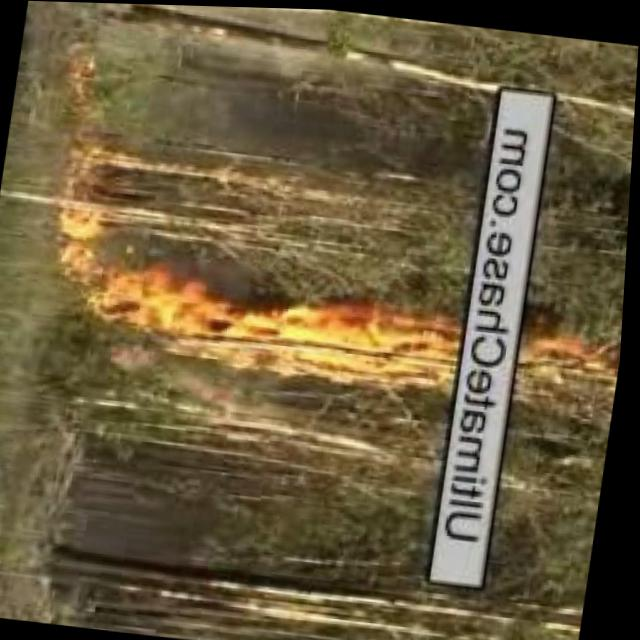Fire: (190, 292, 455, 388), (45, 194, 203, 352), (526, 332, 618, 385)
